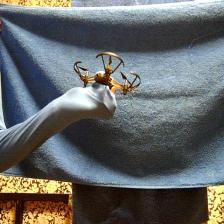drone: (74, 50, 142, 100)
